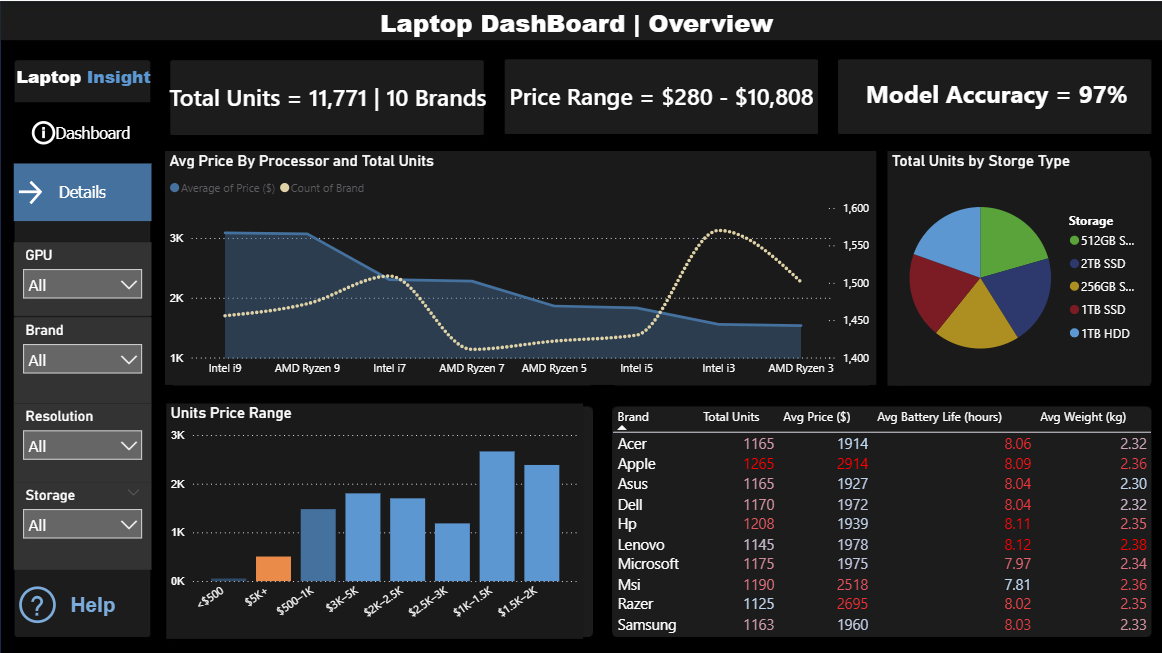

The dashboard page shown, as its layout file describes it:
{"tool":"powerbi","page":{"name":"Page 1","canvas":[1280,720],"ordinal":0},"visuals":[{"type":"textbox","box":[313,0,640.8,55],"z":0},{"type":"textbox","box":[1.4,64.5,181.1,48],"z":1000},{"type":"areaChart","title":"Avg Price By Processor and Total Units","fields":{"Category":["dim_processor.Processor"],"Y":["Avg(laptop_prices.Price ($))"],"Y2":["CountNonNull(laptop_prices.Brand)"]},"box":[181,165.3,780.6,257],"z":2000},{"type":"columnChart","title":"Units Price Range","fields":{"Category":["laptop_prices.Price Range"],"Y":["CountNonNull(laptop_prices.Brand)"]},"box":[182.2,441.6,457.2,258.2],"z":3000},{"type":"cardVisual","fields":{"Data":["Measure.Total Laptop card"]},"box":[168.8,64.5,402.1,81],"z":4000},{"type":"tableEx","fields":{"Values":["laptop_prices.Brand","CountNonNull(laptop_prices.Brand)","Avg(laptop_prices.Price ($))","Avg(laptop_prices.Battery Life (hours))","Avg(laptop_prices.Weight (kg))"]},"box":[666.9,441.9,613.4,258],"z":5000},{"type":"cardVisual","fields":{"Data":["Measure.Range card"]},"box":[542,60.4,370.5,85.1],"z":6000},{"type":"actionButton","box":[15.1,111.1,150.9,67.2],"z":7000},{"type":"textbox","box":[929,78.2,330.7,67.2],"z":8000},{"type":"pieChart","title":"Total Units by Storge Type","fields":{"Y":["CountNonNull(laptop_prices.Brand)"],"Category":["dim_storage.Storage"]},"box":[974.3,164.7,288.2,258],"z":9000},{"type":"actionButton","box":[15.1,178.4,150.9,63.1],"z":10000},{"type":"slicer","fields":{"Values":["laptop_prices.GPU"]},"box":[15.1,264.8,150.9,81],"z":11000},{"type":"slicer","fields":{"Values":["laptop_prices.Brand"]},"box":[15.1,347.2,150.9,94.7],"z":12000},{"type":"slicer","fields":{"Values":["dim_resolution.Resolution"]},"box":[15.1,441.9,150.9,86.4],"z":13000},{"type":"slicer","fields":{"Values":["dim_storage.Storage"]},"box":[15.1,528.3,150.9,96.1],"z":14000},{"type":"actionButton","box":[15.1,636.7,150.9,52.1],"z":15000}]}

Visuals, with their boxes in screenshot pixels (x1, y1, x2, y2), scaled from the page's 1280x720 canvas onto the 1162x653 screenshot:
textbox: l=284, t=0, r=866, b=50
textbox: l=1, t=58, r=166, b=102
"Avg Price By Processor and Total Units" areaChart: l=164, t=150, r=873, b=383
"Units Price Range" columnChart: l=165, t=401, r=580, b=635
cardVisual - Measure.Total Laptop card: l=153, t=58, r=518, b=132
tableEx - laptop_prices.Brand x CountNonNull(laptop_prices.Brand): l=605, t=401, r=1161, b=635
cardVisual - Measure.Range card: l=492, t=55, r=828, b=132
actionButton: l=14, t=101, r=151, b=162
textbox: l=843, t=71, r=1144, b=132
"Total Units by Storge Type" pieChart: l=884, t=149, r=1146, b=383
actionButton: l=14, t=162, r=151, b=219
slicer - laptop_prices.GPU: l=14, t=240, r=151, b=314
slicer - laptop_prices.Brand: l=14, t=315, r=151, b=401
slicer - dim_resolution.Resolution: l=14, t=401, r=151, b=479
slicer - dim_storage.Storage: l=14, t=479, r=151, b=566
actionButton: l=14, t=577, r=151, b=625
